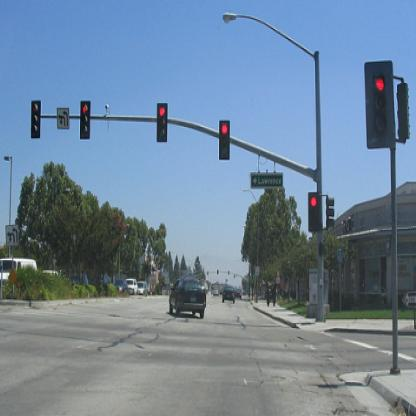left-red: (80, 101, 91, 140)
red: (365, 60, 396, 148), (156, 102, 168, 142), (308, 192, 320, 231), (219, 119, 230, 160)
